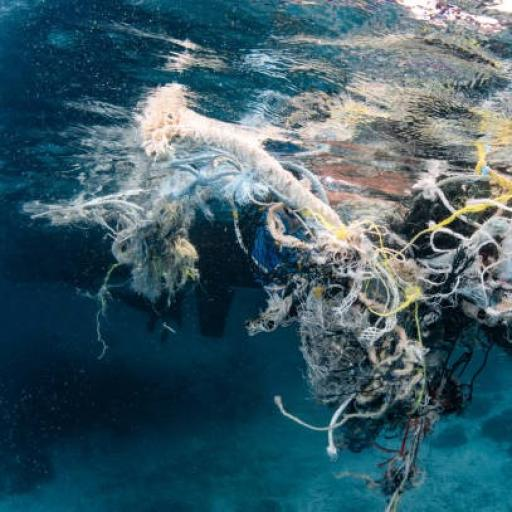net: (119, 84, 512, 429)
